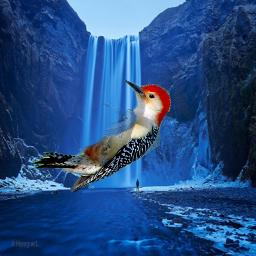Woodpecker: (30, 80, 171, 193)
